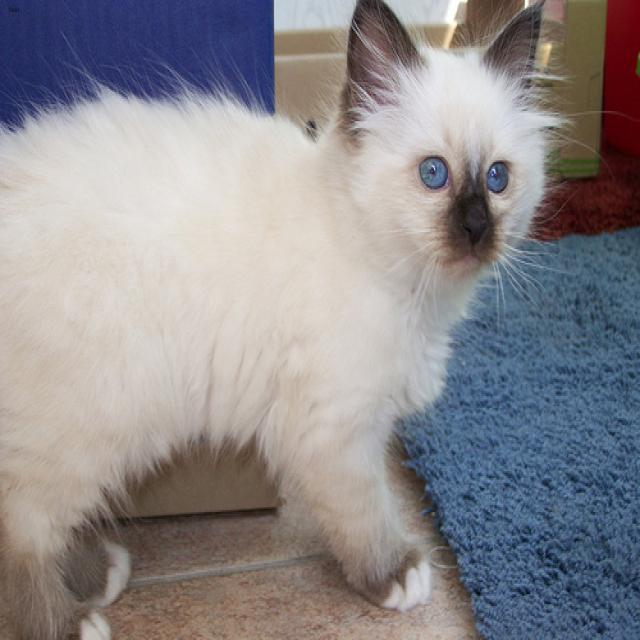Birman: (322, 0, 557, 301)
